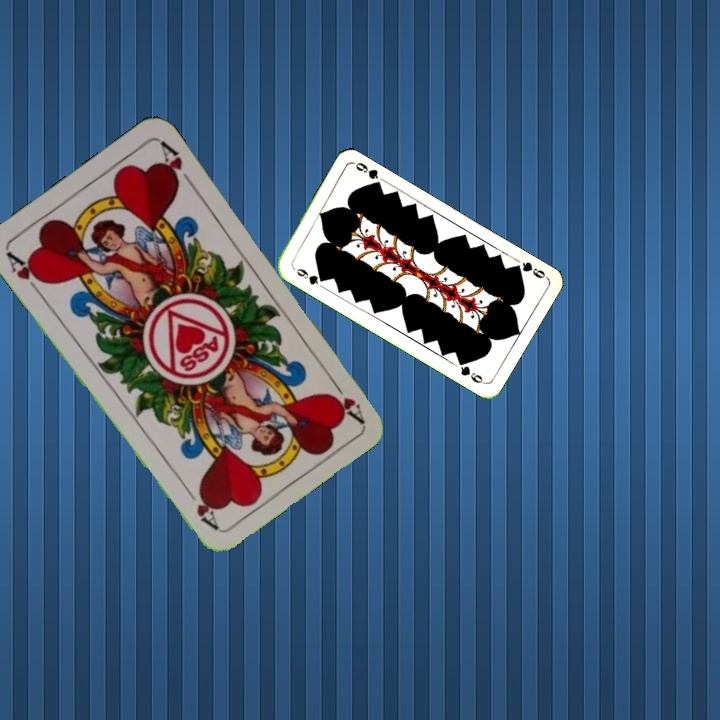G9: (509, 258, 549, 281), (292, 264, 327, 287)
HA: (2, 248, 48, 298), (325, 372, 367, 425)
